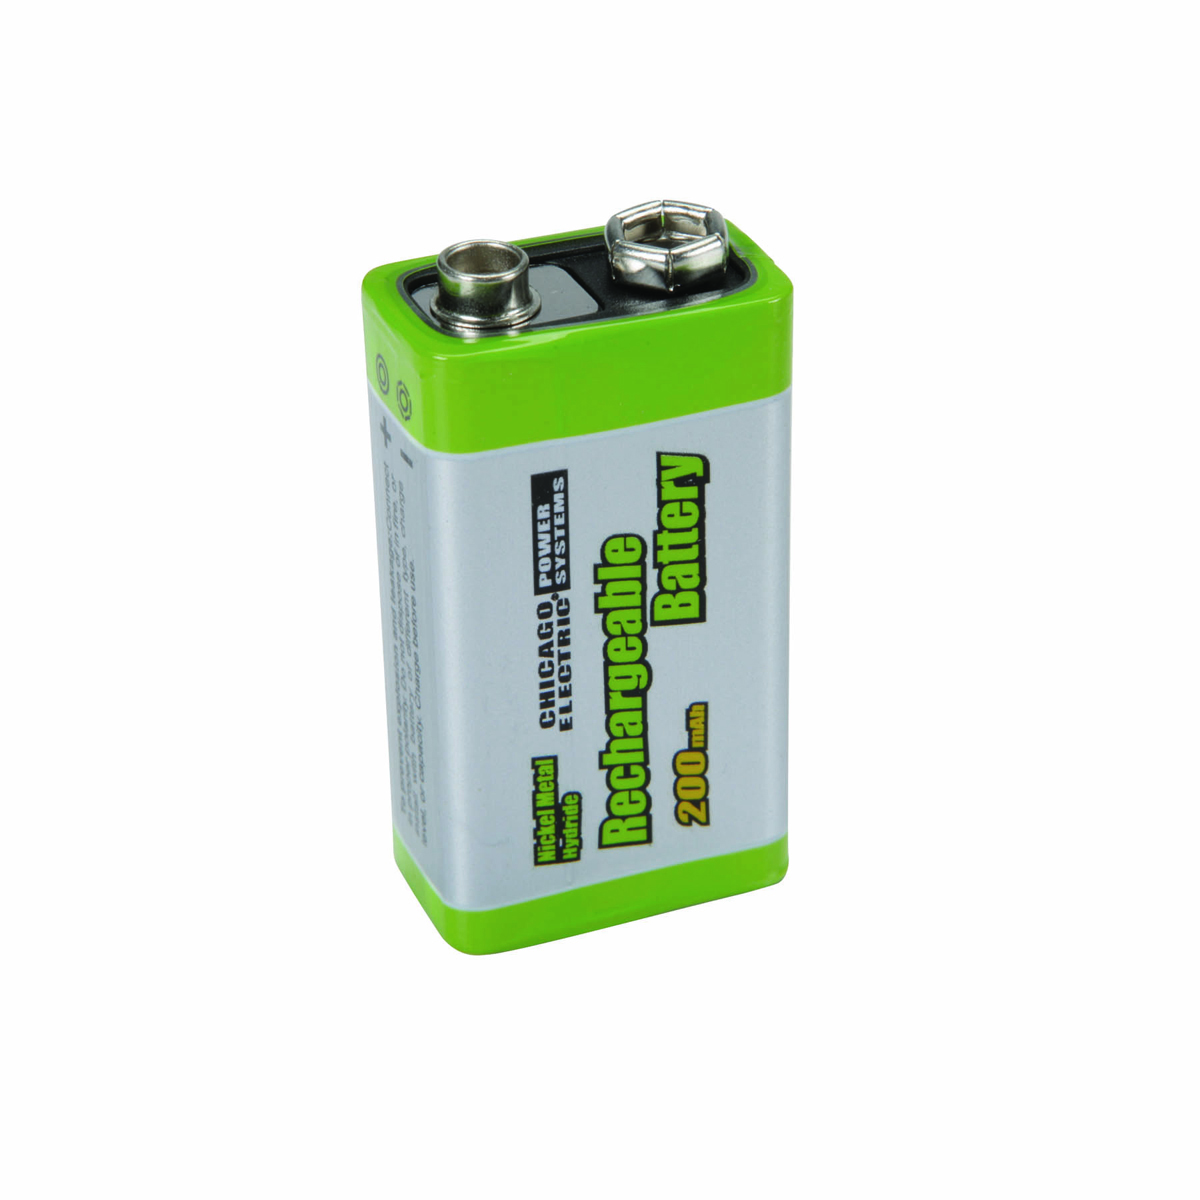9V: (351, 182, 881, 1004)
